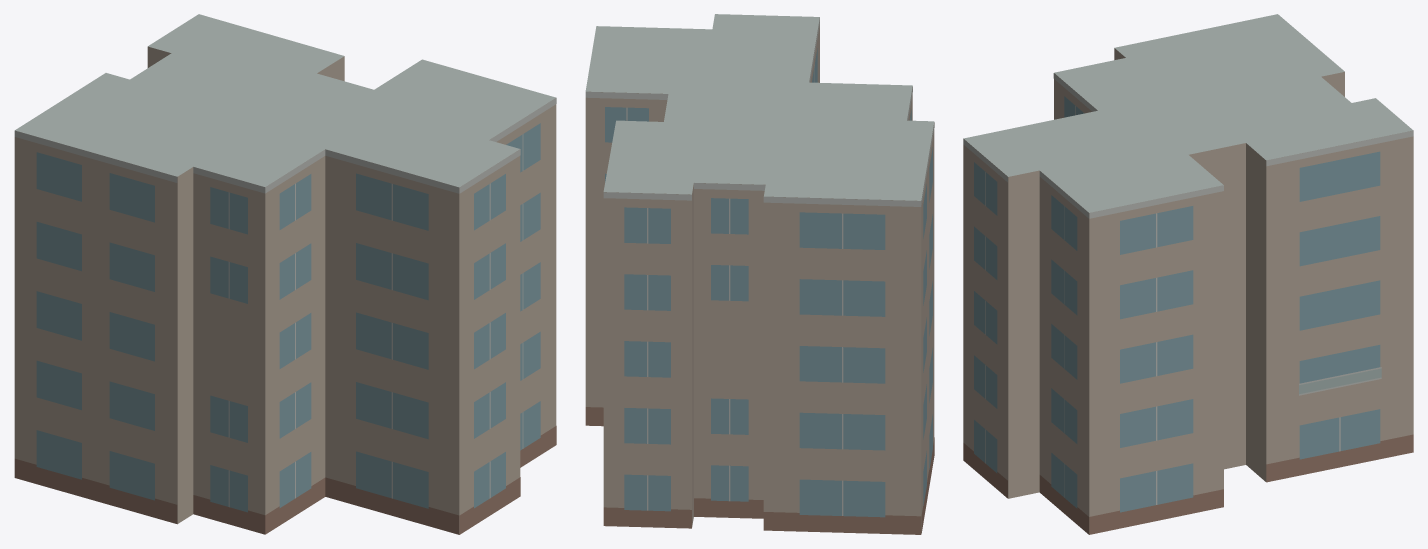
The model's file is survey-upis-32636423.glb.
3 views of the same model, side by side, from view 1: azimuth 30°, elevation 25°; view 2: azimuth 150°, elevation 25°; view 3: azimuth 270°, elevation 25° (orthographic). The views are drawn at different scales.
Parts seen in each view (by area): view 1: survey-upis-32636423.tmp; view 2: survey-upis-32636423.tmp; view 3: survey-upis-32636423.tmp.
Part boxes in pixels (bbox=[...]): survey-upis-32636423.tmp: bbox=[14, 14, 556, 534]; survey-upis-32636423.tmp: bbox=[585, 14, 934, 534]; survey-upis-32636423.tmp: bbox=[963, 14, 1413, 534].
Bounding box in the file's own units: 17.63 × 13.3 × 16.86.
